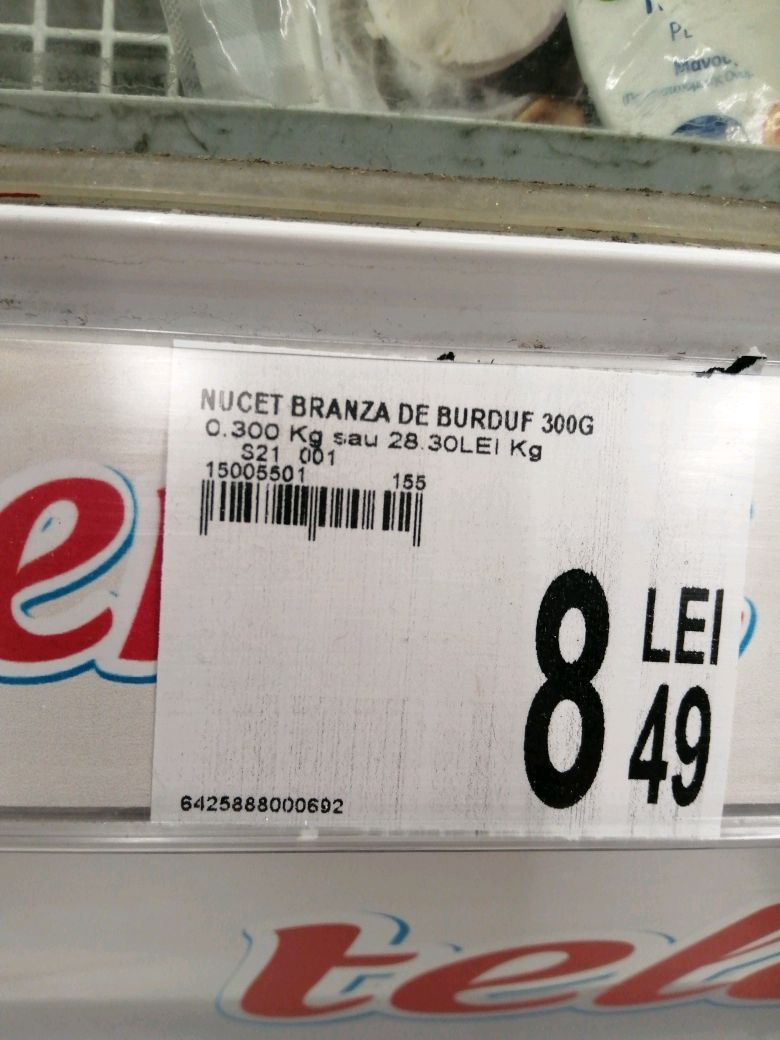price_bani: (625, 680, 728, 816)
price_lei: (516, 562, 621, 815)
price_tag: (156, 331, 755, 845)
product_id: (170, 788, 348, 823)
product_name: (183, 382, 598, 443)
